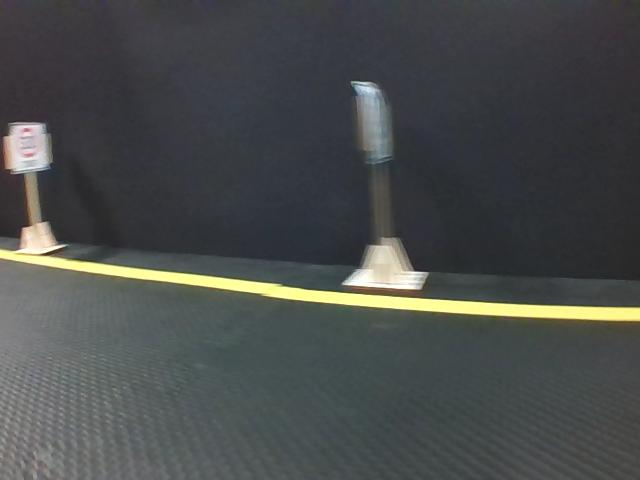30: (12, 124, 47, 169)
no30: (360, 88, 392, 161)
